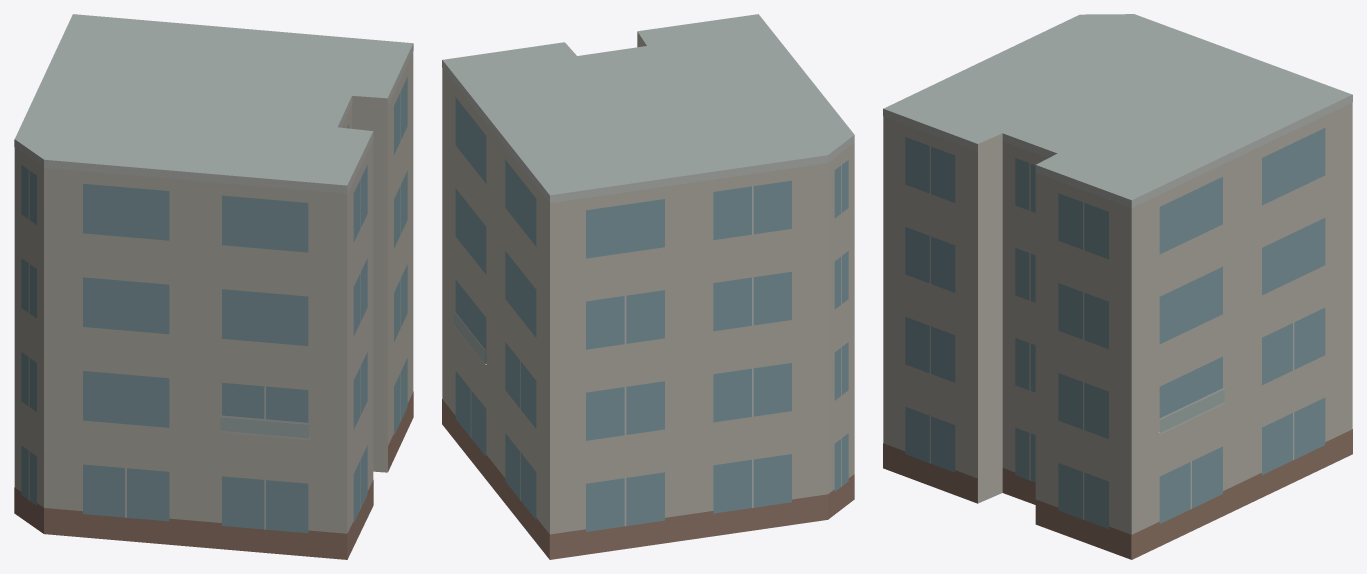
The model's file is survey-upis-32534049.glb.
The picture shows the model from 3 angles, left to right: view 1: azimuth 30°, elevation 25°; view 2: azimuth 150°, elevation 25°; view 3: azimuth 270°, elevation 25°; orthographic projection. The views are drawn at different scales.
Parts seen in each view (by area): view 1: survey-upis-32534049.tmp; view 2: survey-upis-32534049.tmp; view 3: survey-upis-32534049.tmp.
Boxes of the visible parts, left/top/right/bottom form: survey-upis-32534049.tmp: left=14, top=14, right=413, bottom=559; survey-upis-32534049.tmp: left=442, top=14, right=854, bottom=559; survey-upis-32534049.tmp: left=883, top=14, right=1352, bottom=559.
Bounding box in the file's own units: 12.56 × 11.3 × 13.38.
